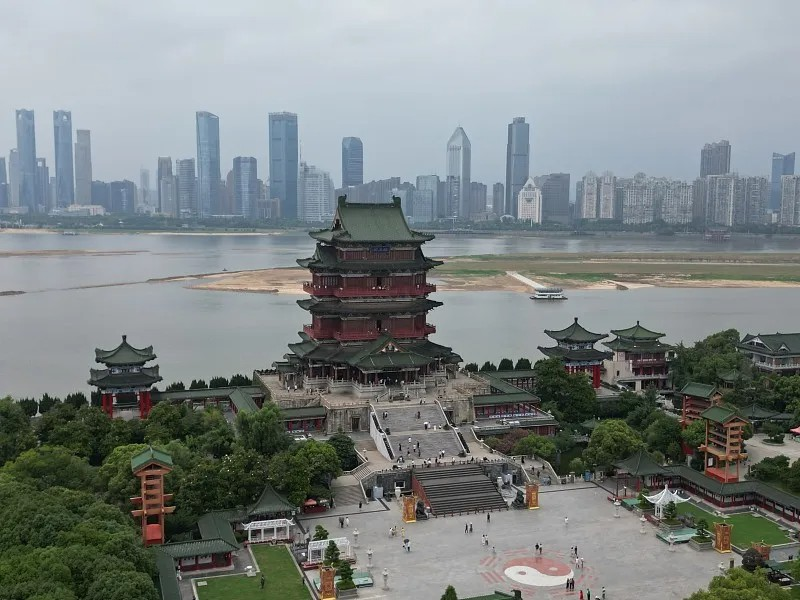Teng: (272, 196, 465, 390)
